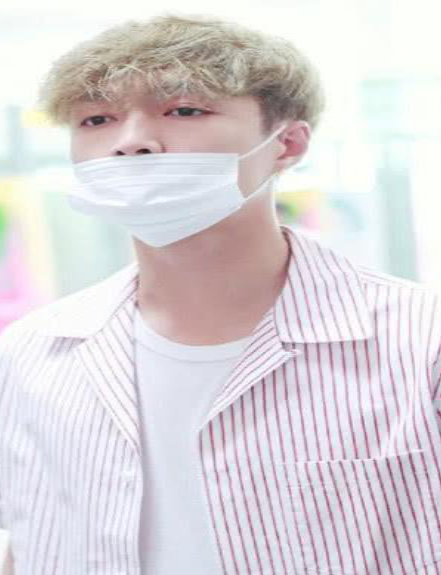mask_weared_incorrect: (61, 97, 267, 251)
